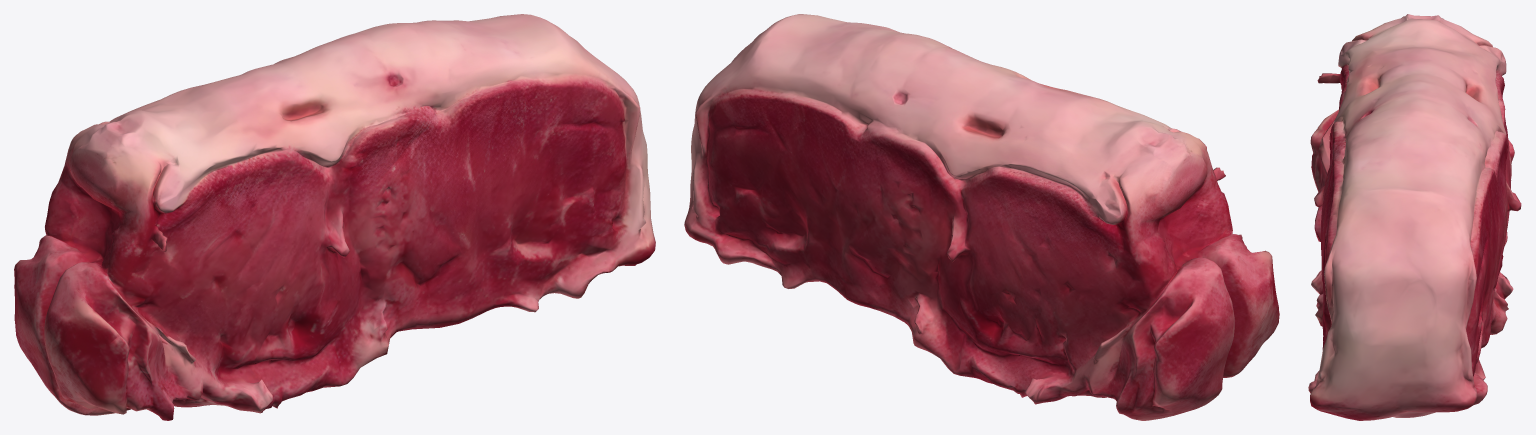
File: carne.glb
3 renders of one model, left to right at view 1: azimuth 30°, elevation 25°; view 2: azimuth 150°, elevation 25°; view 3: azimuth 270°, elevation 25°, orthographic. The views are drawn at different scales.
Visible parts, largest first — view 1: tripo_node_0a8c3a4a-bcfb-4018-a35b-0215cabae619; view 2: tripo_node_0a8c3a4a-bcfb-4018-a35b-0215cabae619; view 3: tripo_node_0a8c3a4a-bcfb-4018-a35b-0215cabae619.
Part boxes in pixels (left/top/right/bottom): tripo_node_0a8c3a4a-bcfb-4018-a35b-0215cabae619: left=14, top=14, right=655, bottom=420; tripo_node_0a8c3a4a-bcfb-4018-a35b-0215cabae619: left=684, top=14, right=1279, bottom=420; tripo_node_0a8c3a4a-bcfb-4018-a35b-0215cabae619: left=1308, top=14, right=1521, bottom=420.
Bounding box in the file's own units: 0.979 × 0.5144 × 0.338.
Materials: 1 (1 with a texture image).
